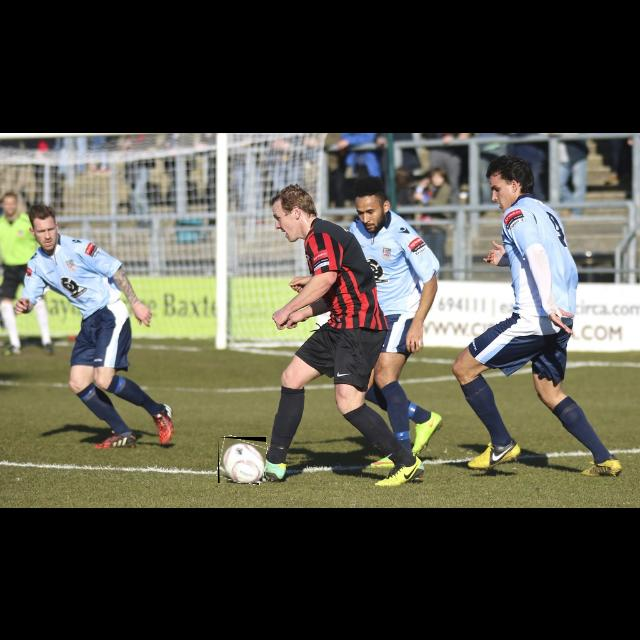Football: (218, 437, 266, 483)
